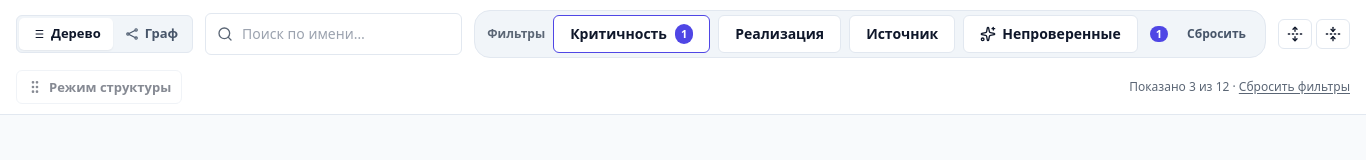
TreeToolbar (T-1101/1103/1105) › T3 (§2.6): shows «Показано X из Y · Сбросить фильтры» when filters are applied
Expected: the message with test id "shown-count" shows "Показано 3 из 12", [1129,79,1350,95]
Click the button with test id "toolbar-reset-filters".
click(1294, 87)  # box [1239,79,1350,95]
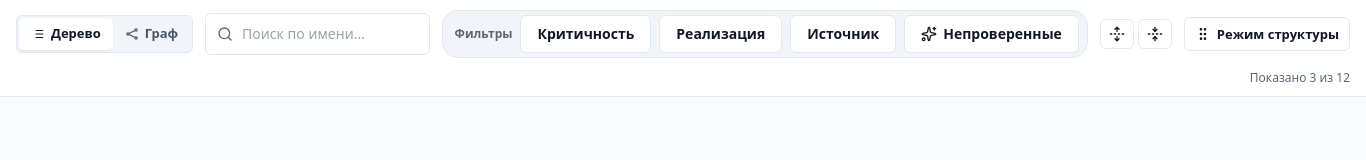
Expected: the button with test id "toolbar-reset-filters" is gone
